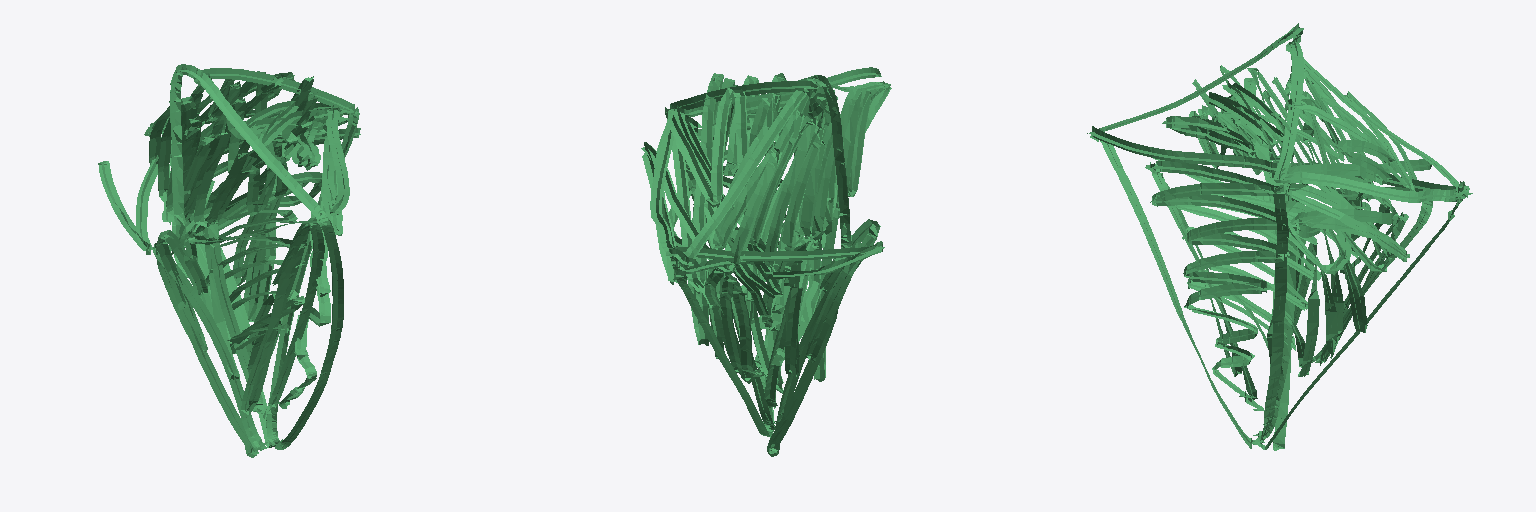
3 renders of one model, left to right at view 1: azimuth 30°, elevation 25°; view 2: azimuth 150°, elevation 25°; view 3: azimuth 270°, elevation 25°, orthographic.
Bounding box in the file's own units: 0.4573 × 0.7618 × 0.6643.
Materials: 1 (1 with a texture image).